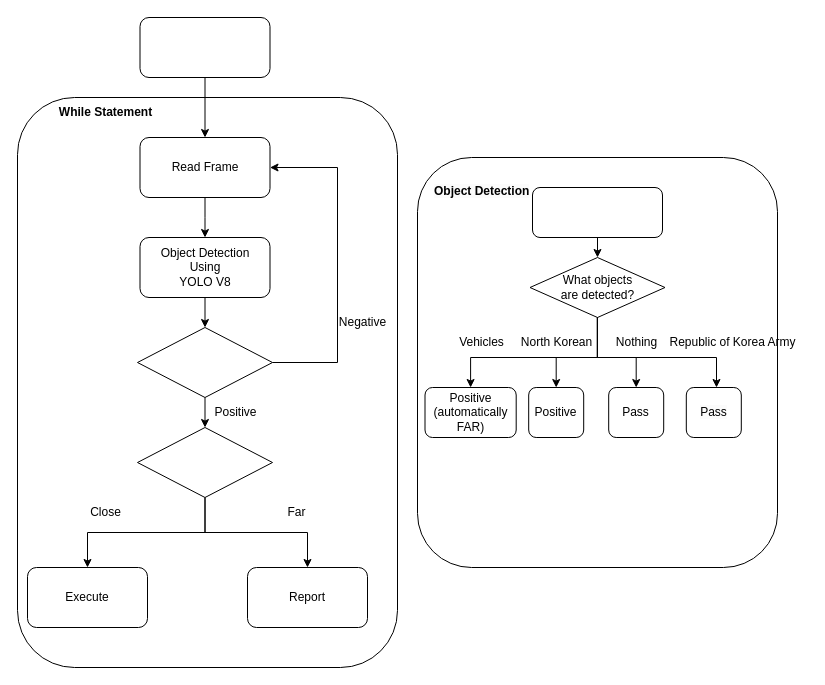
Some shapes in this 825 by 685 pixel diagram are drawn without their labels. Here are the shapes that lost their labels. From the top down, the box of each, then its label:
(139, 16, 270, 78): Preprocessing
(532, 186, 662, 238): Predict (Object bounding box)
(136, 326, 272, 398): North Korean?
(136, 426, 272, 498): Depth Estimation
